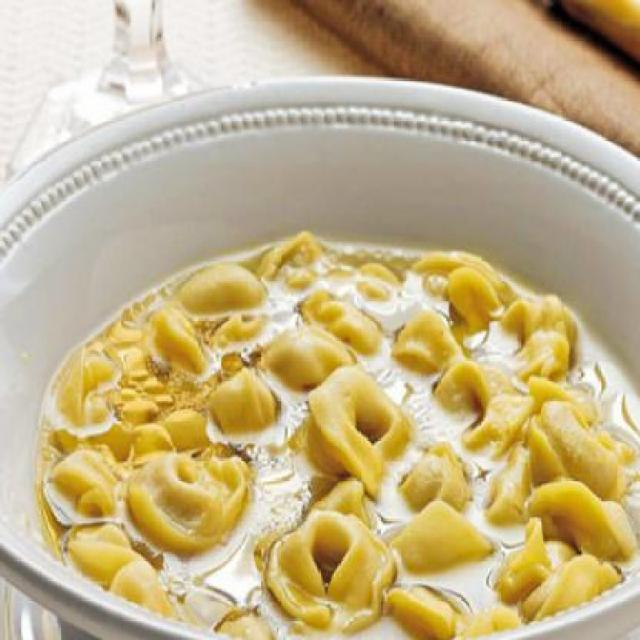Tortellini in broth: (38, 284, 630, 620)
